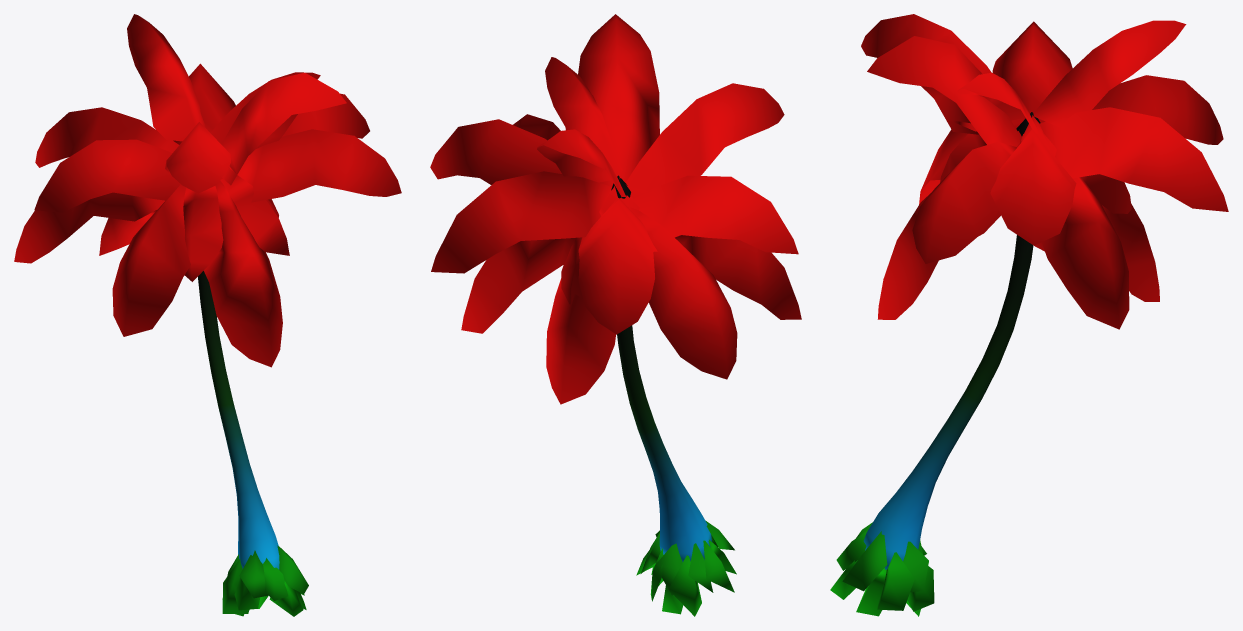
File: Coconut3.fbx
The picture shows the model from 3 angles, left to right: view 1: azimuth 30°, elevation 25°; view 2: azimuth 150°, elevation 25°; view 3: azimuth 270°, elevation 25°; orthographic projection. The views are drawn at different scales.
Visible parts, largest first — view 1: Coconut3_LOD0; view 2: Coconut3_LOD0; view 3: Coconut3_LOD0.
Part boxes in pixels (<box>): Coconut3_LOD0: <box>14,14,401,616</box>; Coconut3_LOD0: <box>430,14,801,616</box>; Coconut3_LOD0: <box>830,14,1228,616</box>.
Size of what is drawn, in the model's own units: 753 by 1130 by 674.
